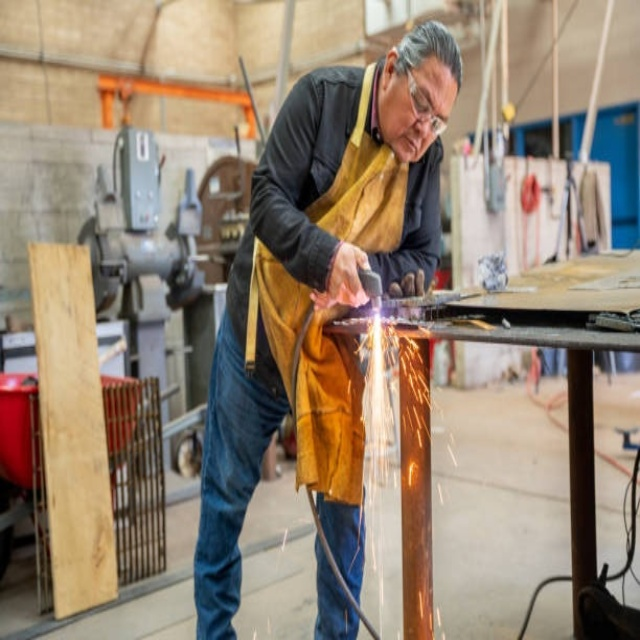Gafas: (404, 61, 447, 136)
Sin_guantes: (327, 226, 373, 317)
Sin_mascara: (396, 127, 424, 165)
